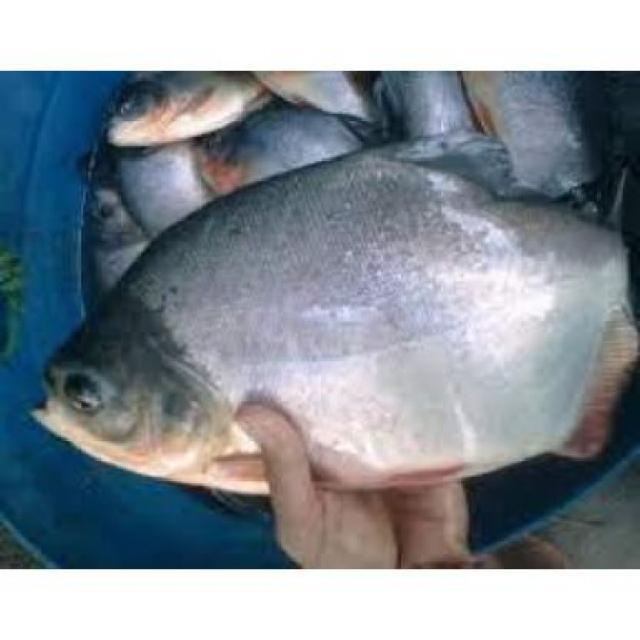ikan-pacu: (40, 145, 634, 492)
